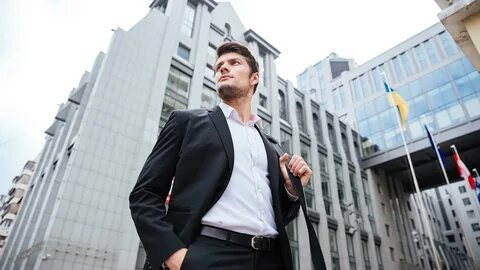awake: (128, 40, 314, 270)
